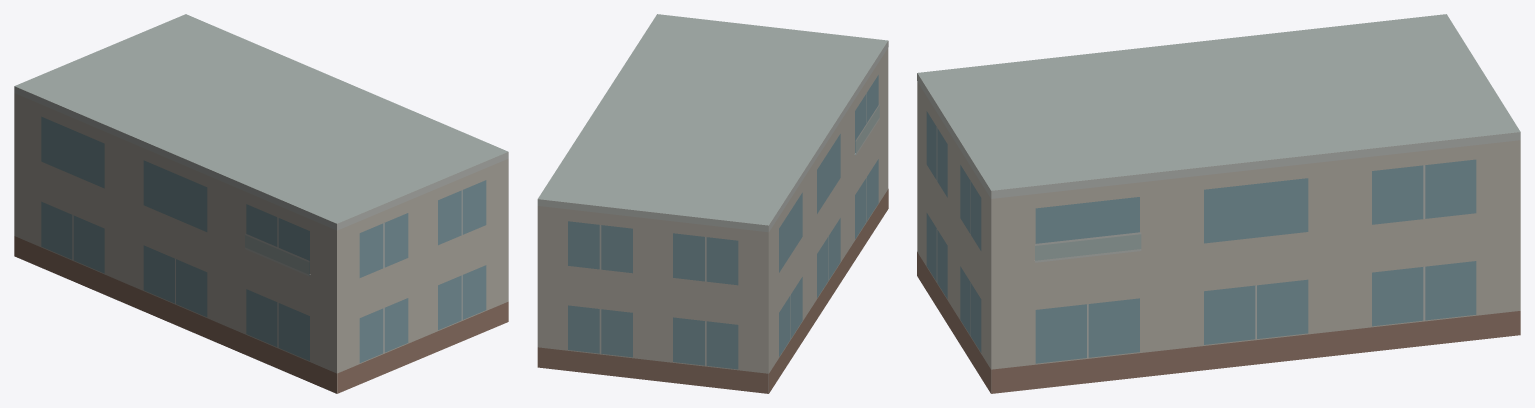
The model's file is survey-upis-32709736.glb.
3 views of the same model, side by side, from view 1: azimuth 30°, elevation 25°; view 2: azimuth 150°, elevation 25°; view 3: azimuth 270°, elevation 25° (orthographic). The views are drawn at different scales.
Visible parts, largest first — view 1: survey-upis-32709736.tmp; view 2: survey-upis-32709736.tmp; view 3: survey-upis-32709736.tmp.
Part boxes in pixels (x1,y1,x2,y2): survey-upis-32709736.tmp: [14, 14, 508, 393]; survey-upis-32709736.tmp: [537, 14, 888, 393]; survey-upis-32709736.tmp: [917, 14, 1520, 393].
Bounding box in the file's own units: 11.41 × 6.1 × 16.45.
